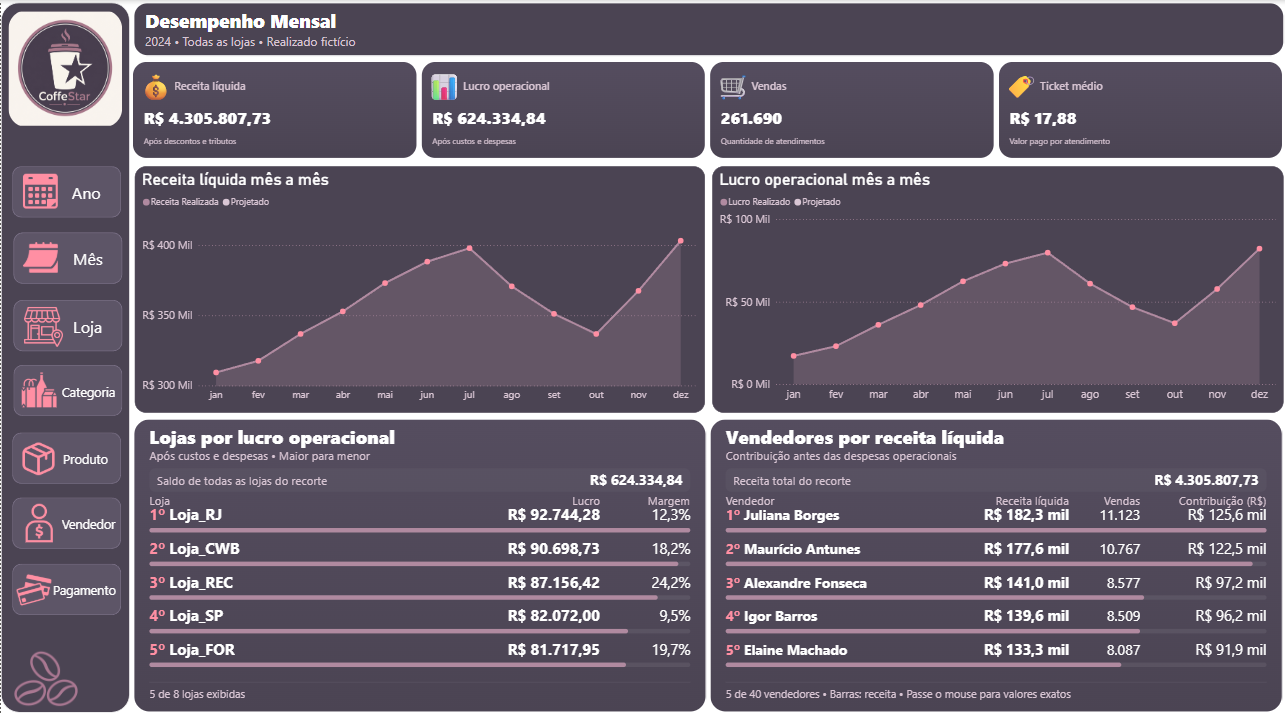

Layout of this report page (visuals, bound fields, positions):
{"tool":"powerbi","page":{"name":"Desempenho Mensal","canvas":[1920,1080],"ordinal":1},"visuals":[{"type":"htmlContent443BE3AD55E043BF878BED274D3A6855","fields":{"content":["Medidas.DM Cards Indicadores HTML"]},"box":[192.5,88.6,1725.2,159.8],"z":0},{"type":"shape","box":[16.8,248.1,162.3,76.5],"z":0,"group":"g1"},{"type":"shape","box":[18,347.1,162.3,76.5],"z":0,"group":"g2"},{"type":"shape","box":[18.7,447.8,162.3,76.5],"z":0,"group":"g3"},{"type":"shape","box":[18.6,544.9,162.3,76],"z":0,"group":"g4"},{"type":"shape","box":[16.8,645.6,162.3,76.5],"z":0,"group":"g5"},{"type":"shape","box":[16.8,742.6,162.3,76.5],"z":0,"group":"g6"},{"type":"shape","box":[16.8,841.3,162.3,76.5],"z":0,"group":"g7"},{"type":"htmlContent443BE3AD55E043BF878BED274D3A6855","fields":{"content":["Medidas.DM Cabecalho HTML"]},"box":[194.5,0,1725.2,88.6],"z":1000},{"type":"image","box":[16.8,258.6,84,52.2],"z":1000,"group":"g1"},{"type":"image","box":[16.8,358.2,84,52.2],"z":1000,"group":"g2"},{"type":"image","box":[13.1,455.3,100.8,65.3],"z":1000,"group":"g3"},{"type":"image","box":[14.9,556,84,51.9],"z":1000,"group":"g4"},{"type":"image","box":[11.1,654.9,89.6,59.7],"z":1000,"group":"g5"},{"type":"image","box":[7.5,751.5,98.9,57.8],"z":1000,"group":"g6"},{"type":"image","box":[16.8,854.4,65.3,52.2],"z":1000,"group":"g7"},{"type":"textbox","box":[100.8,266.8,65.3,44.8],"z":2000,"group":"g1"},{"type":"textbox","box":[102,365.8,65.3,44.8],"z":2000,"group":"g2"},{"type":"textbox","box":[102.7,466.5,65.3,44.8],"z":2000,"group":"g3"},{"type":"textbox","box":[85.8,567.1,89.6,48.2],"z":2000,"group":"g4"},{"type":"htmlContent443BE3AD55E043BF878BED274D3A6855","fields":{"content":["Medidas.DM Ranking Lojas HTML"]},"box":[194.5,621.9,862.6,452.5],"z":2000},{"type":"textbox","box":[87.7,668,89.6,48.5],"z":2000,"group":"g5"},{"type":"textbox","box":[86,765,98.9,48.5],"z":2000,"group":"g6"},{"type":"textbox","box":[72.7,863.7,108.2,48.5],"z":2000,"group":"g7"},{"type":"actionButton","box":[15.5,242.6,164.9,91.8],"z":3000,"group":"g1"},{"type":"lineChart","title":"Lucro operacional mês a mês","fields":{"Category":["dCalendario.Nome Mês Abr"],"Y":["Medidas.DM Lucro Realizado","Medidas.DM Lucro Projetado"]},"box":[1060.9,248.4,853,367.8],"z":3000},{"type":"lineChart","title":"Receita líquida mês a mês","fields":{"Category":["dCalendario.Nome Mês Abr"],"Y":["Medidas.DM Receita Realizada","Medidas.DM Receita Projetada"]},"box":[200.2,248.4,851,367.8],"z":4000},{"type":"shape","title":"Barra de filtros","box":[0,3.7,192.2,1060],"z":5000},{"type":"image","title":"Logo","box":[11.2,14.9,169.8,175.4],"z":6000},{"type":"group","id":"g1","title":"BTN_Ano","box":[15.5,242.6,164.9,91.8],"z":7000},{"type":"group","id":"g2","title":"BTN_Mes","box":[16.8,347.1,164.2,76.5],"z":9000},{"type":"group","id":"g3","title":"BTN_Loja","box":[13.1,447.8,167.9,76.5],"z":11000},{"type":"group","id":"g4","title":"BTN_Categoria","box":[14.9,544.9,166.1,76],"z":13000},{"type":"group","id":"g5","title":"BTN_Produto","box":[11.1,645.6,168,76.5],"z":15000},{"type":"group","id":"g6","title":"BTN_Vendedor","box":[7.5,742.6,177.4,76.5],"z":17000},{"type":"group","id":"g7","title":"BTN_Pagamento","box":[16.8,841.3,164.2,76.5],"z":19000},{"type":"actionButton","title":"Clique_Mes_Abrir","box":[16,342,164.9,91.8],"z":21000},{"type":"actionButton","title":"Clique_Loja_Abrir","box":[11.5,440.7,173,92.3],"z":22000},{"type":"actionButton","title":"Clique_Categoria_Abrir","box":[18.8,536.3,164.9,91.8],"z":23000},{"type":"actionButton","title":"Clique_Produto_Abrir","box":[16.7,636.5,164.9,91.8],"z":24000},{"type":"actionButton","title":"Clique_Vendedor_Abrir","box":[12.5,736.7,164.9,91.8],"z":25000},{"type":"actionButton","title":"Clique_Pagamento_Abrir","box":[6.9,832.9,177.7,92.3],"z":26000},{"type":"htmlContent443BE3AD55E043BF878BED274D3A6855","fields":{"content":["Medidas.DM Ranking Vendedores HTML"]},"box":[1055.1,621.9,862.6,452.5],"z":34000},{"type":"image","box":[0,953.5,134.3,119.4],"z":35000}]}

Visuals, with their boxes in screenshot pixels (x1, y1, x2, y2), scaled from the page's 1920x1080 canvas onto the 1285x715 screenshot:
htmlContent443BE3AD55E043BF878BED274D3A6855 - Medidas.DM Cards Indicadores HTML: [x1=129, y1=59, x2=1283, y2=164]
shape: [x1=11, y1=164, x2=120, y2=215]
shape: [x1=12, y1=230, x2=121, y2=280]
shape: [x1=13, y1=296, x2=121, y2=347]
shape: [x1=12, y1=361, x2=121, y2=411]
shape: [x1=11, y1=427, x2=120, y2=478]
shape: [x1=11, y1=492, x2=120, y2=542]
shape: [x1=11, y1=557, x2=120, y2=608]
htmlContent443BE3AD55E043BF878BED274D3A6855 - Medidas.DM Cabecalho HTML: [x1=130, y1=0, x2=1284, y2=59]
image: [x1=11, y1=171, x2=67, y2=206]
image: [x1=11, y1=237, x2=67, y2=272]
image: [x1=9, y1=301, x2=76, y2=345]
image: [x1=10, y1=368, x2=66, y2=402]
image: [x1=7, y1=434, x2=67, y2=473]
image: [x1=5, y1=498, x2=71, y2=536]
image: [x1=11, y1=566, x2=55, y2=600]
textbox: [x1=67, y1=177, x2=111, y2=206]
textbox: [x1=68, y1=242, x2=112, y2=272]
textbox: [x1=69, y1=309, x2=112, y2=338]
textbox: [x1=57, y1=375, x2=117, y2=407]
htmlContent443BE3AD55E043BF878BED274D3A6855 - Medidas.DM Ranking Lojas HTML: [x1=130, y1=412, x2=707, y2=711]
textbox: [x1=59, y1=442, x2=119, y2=474]
textbox: [x1=58, y1=506, x2=124, y2=539]
textbox: [x1=49, y1=572, x2=121, y2=604]
actionButton: [x1=10, y1=161, x2=121, y2=221]
"Lucro operacional mês a mês" lineChart: [x1=710, y1=164, x2=1281, y2=408]
"Receita líquida mês a mês" lineChart: [x1=134, y1=164, x2=704, y2=408]
"Barra de filtros" shape: [x1=0, y1=2, x2=129, y2=704]
"Logo" image: [x1=7, y1=10, x2=121, y2=126]
"BTN_Ano" group: [x1=10, y1=161, x2=121, y2=221]
"BTN_Mes" group: [x1=11, y1=230, x2=121, y2=280]
"BTN_Loja" group: [x1=9, y1=296, x2=121, y2=347]
"BTN_Categoria" group: [x1=10, y1=361, x2=121, y2=411]
"BTN_Produto" group: [x1=7, y1=427, x2=120, y2=478]
"BTN_Vendedor" group: [x1=5, y1=492, x2=124, y2=542]
"BTN_Pagamento" group: [x1=11, y1=557, x2=121, y2=608]
"Clique_Mes_Abrir" actionButton: [x1=11, y1=226, x2=121, y2=287]
"Clique_Loja_Abrir" actionButton: [x1=8, y1=292, x2=123, y2=353]
"Clique_Categoria_Abrir" actionButton: [x1=13, y1=355, x2=123, y2=416]
"Clique_Produto_Abrir" actionButton: [x1=11, y1=421, x2=122, y2=482]
"Clique_Vendedor_Abrir" actionButton: [x1=8, y1=488, x2=119, y2=548]
"Clique_Pagamento_Abrir" actionButton: [x1=5, y1=551, x2=124, y2=613]
htmlContent443BE3AD55E043BF878BED274D3A6855 - Medidas.DM Ranking Vendedores HTML: [x1=706, y1=412, x2=1283, y2=711]
image: [x1=0, y1=631, x2=90, y2=710]
